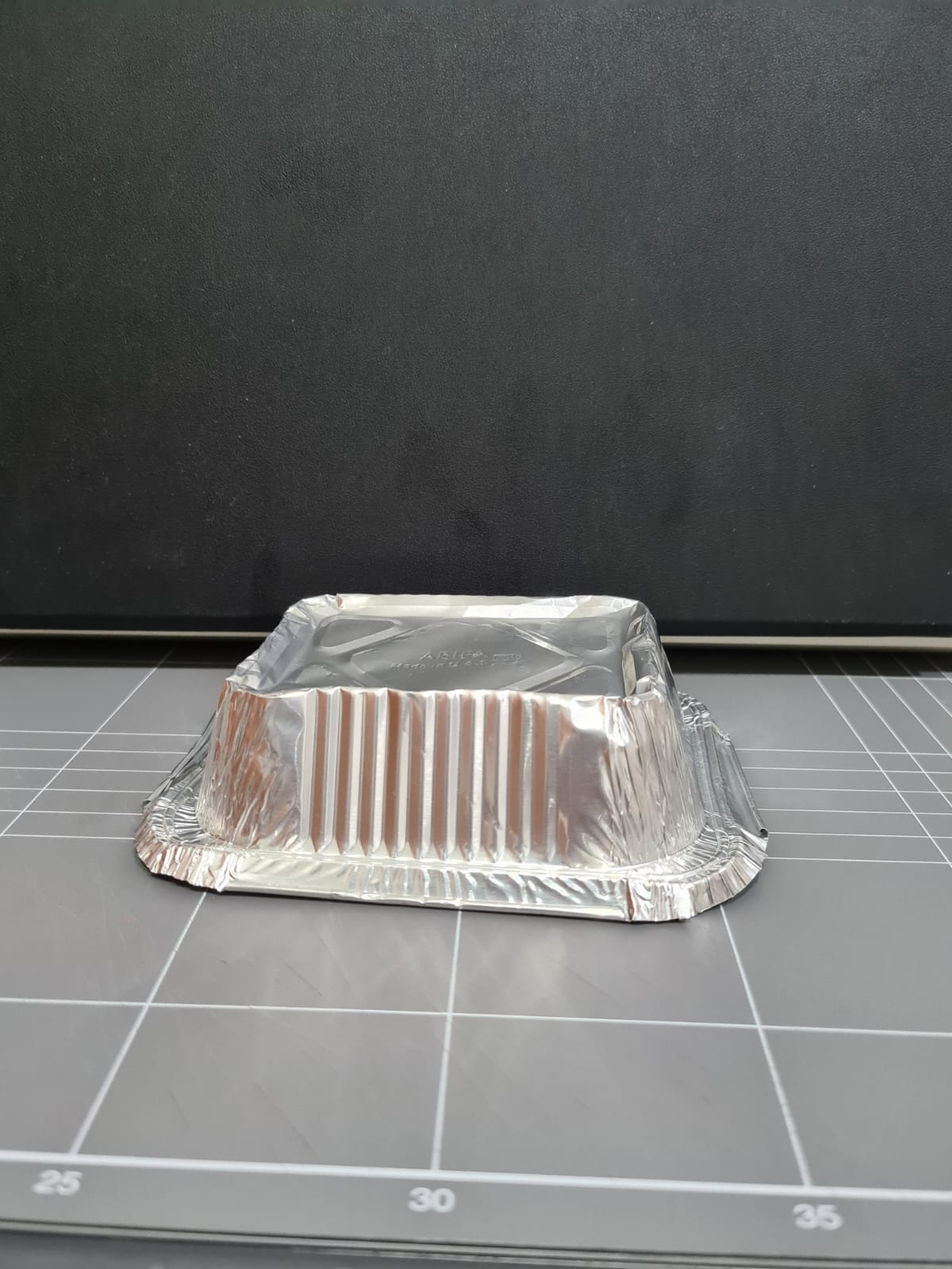Metal: (117, 574, 791, 934)
